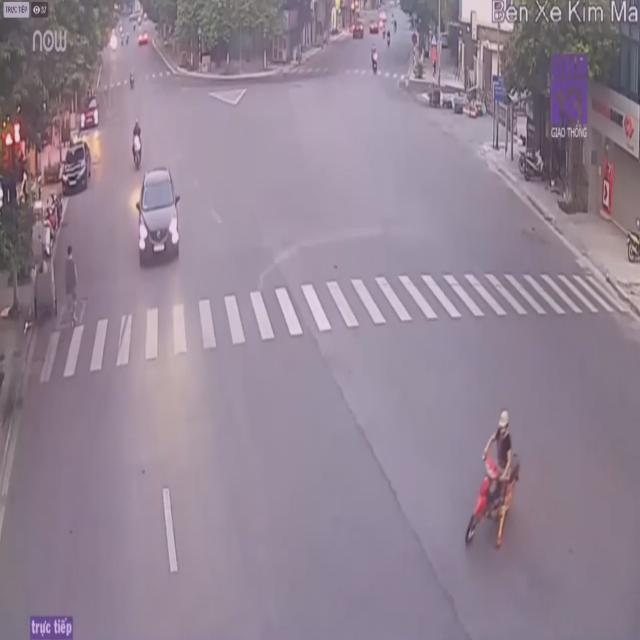car: (134, 166, 182, 266)
motorbike: (470, 407, 522, 548), (130, 120, 144, 172)
